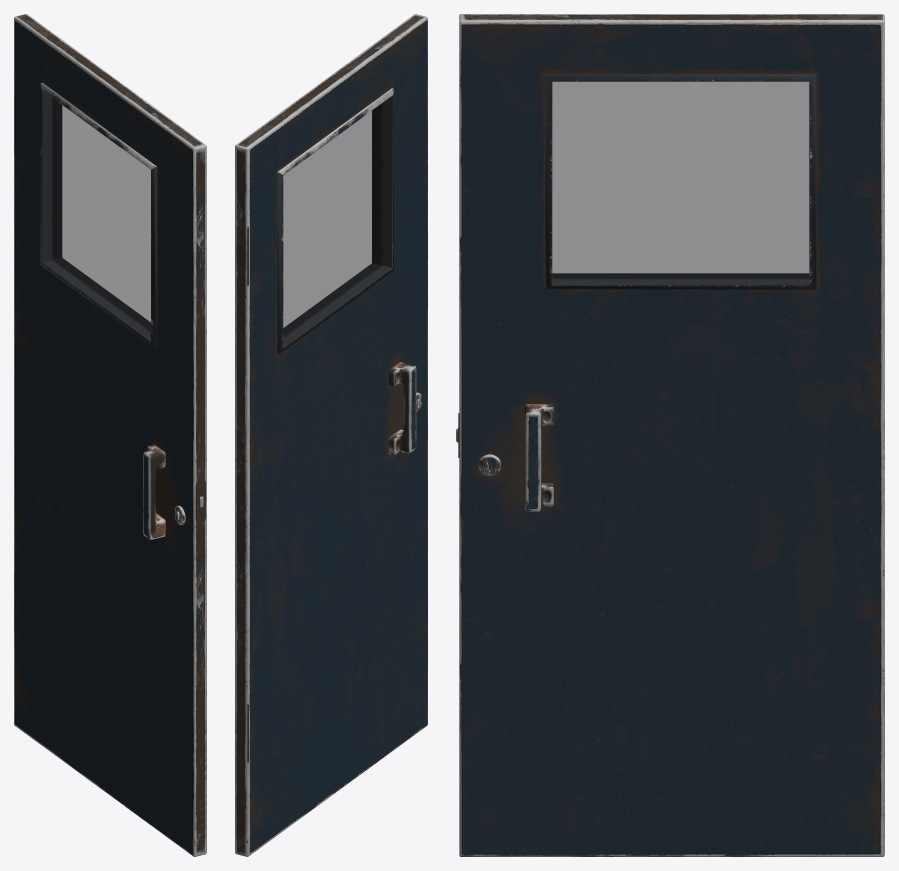
The model's file is double-door-right-transparent.fbx.
The picture shows the model from 3 angles, left to right: view 1: azimuth 30°, elevation 25°; view 2: azimuth 150°, elevation 25°; view 3: azimuth 270°, elevation 25°; orthographic projection. The views are drawn at different scales.
Parts seen in each view (by area): view 1: L_2_02_0, L_2_glass_0, L_2_01_0; view 2: L_2_02_0, L_2_glass_0, L_2_01_0; view 3: L_2_02_0, L_2_glass_0, L_2_01_0.
Boxes of the visible parts, x1,y1,x2,y2 form: L_2_02_0: (14, 14, 206, 856); L_2_glass_0: (52, 98, 150, 332); L_2_01_0: (143, 444, 185, 539); L_2_02_0: (235, 14, 427, 856); L_2_glass_0: (283, 103, 382, 337); L_2_01_0: (388, 362, 421, 455); L_2_02_0: (456, 14, 884, 856); L_2_glass_0: (552, 82, 808, 278); L_2_01_0: (478, 404, 553, 511).
Size of the model in its own units: 12.98 by 187 by 87.02.
Materials: 3 (2 with a texture image).
